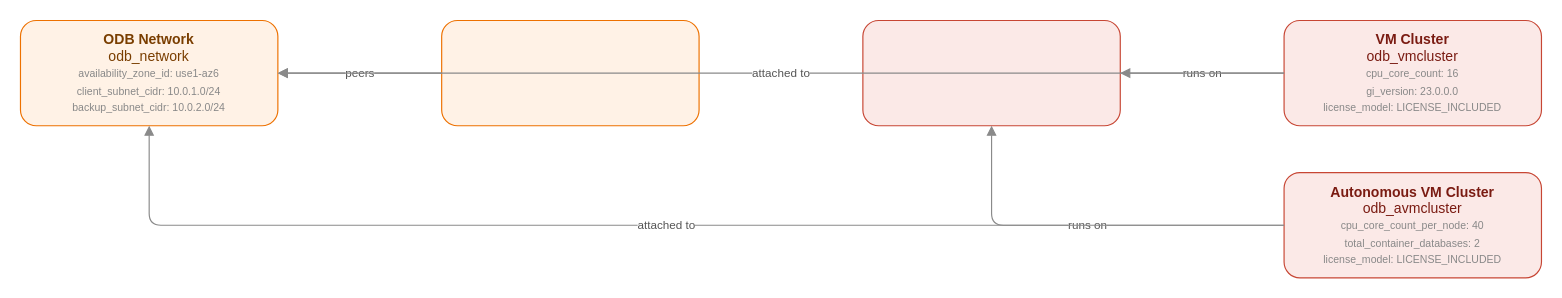
Some shapes in this 1562 by 298 pixel diagram are drawn without their labels. Here are the shapes that lost their labels. From the top down, the centre of each, then its label:
At pixel 570 72: "Network Peering odb_peering peer_network_id: vpc-abc123 region: us-east-1".
At pixel 991 72: "Exadata Infra odb_exaInfra shape: Exadata.X11M compute_count: 2 storage_count: 3".
